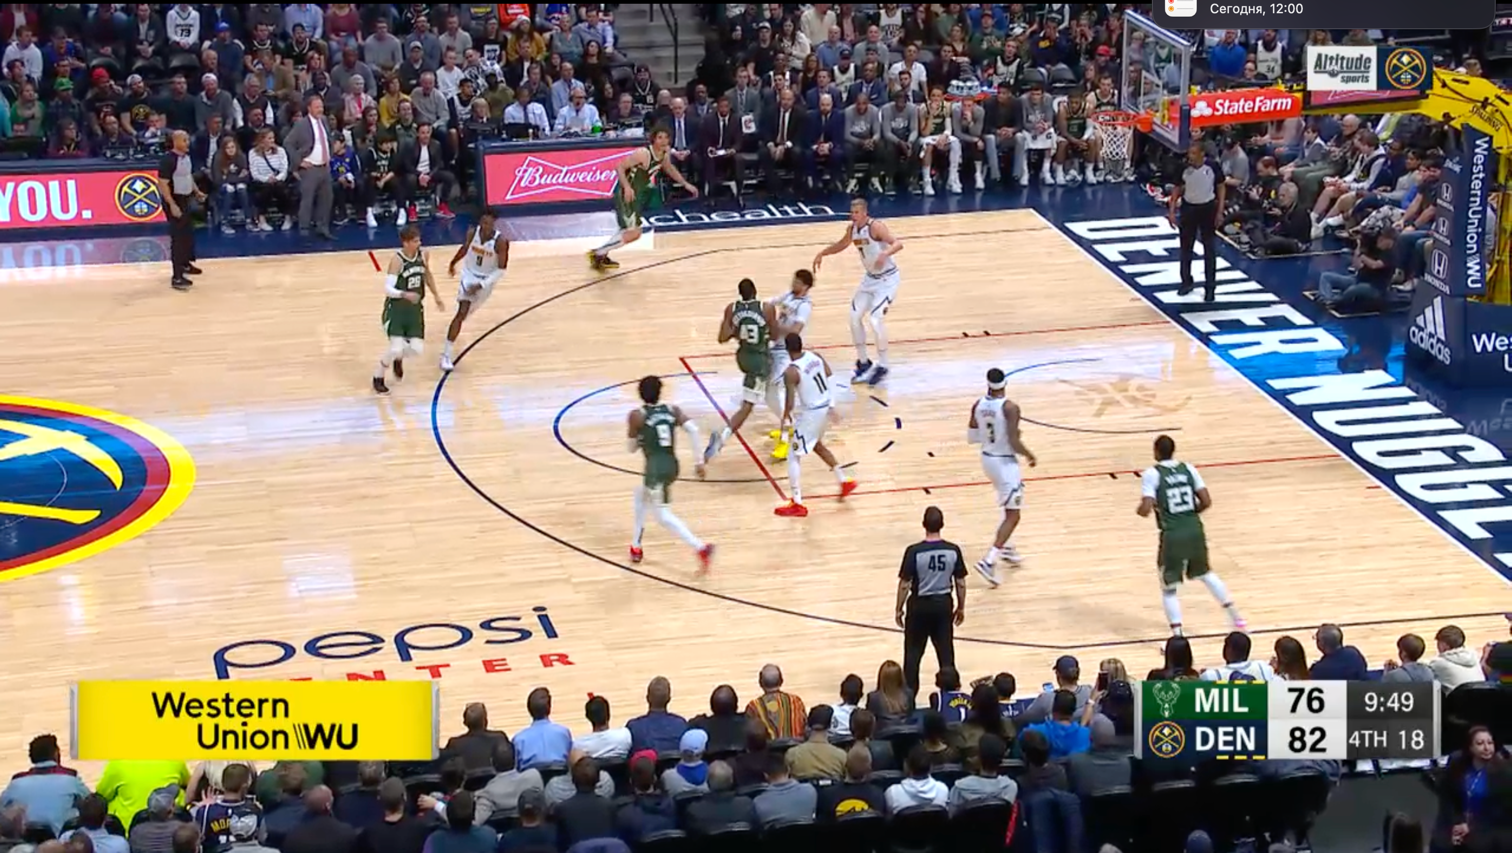Foul: (747, 257, 821, 396)
